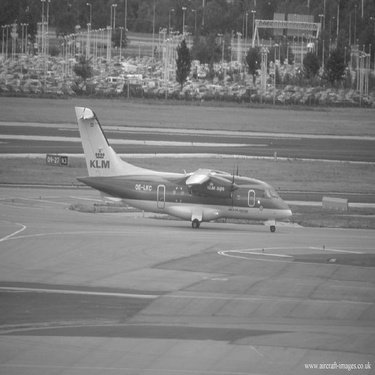airplane: (22, 71, 298, 244)
